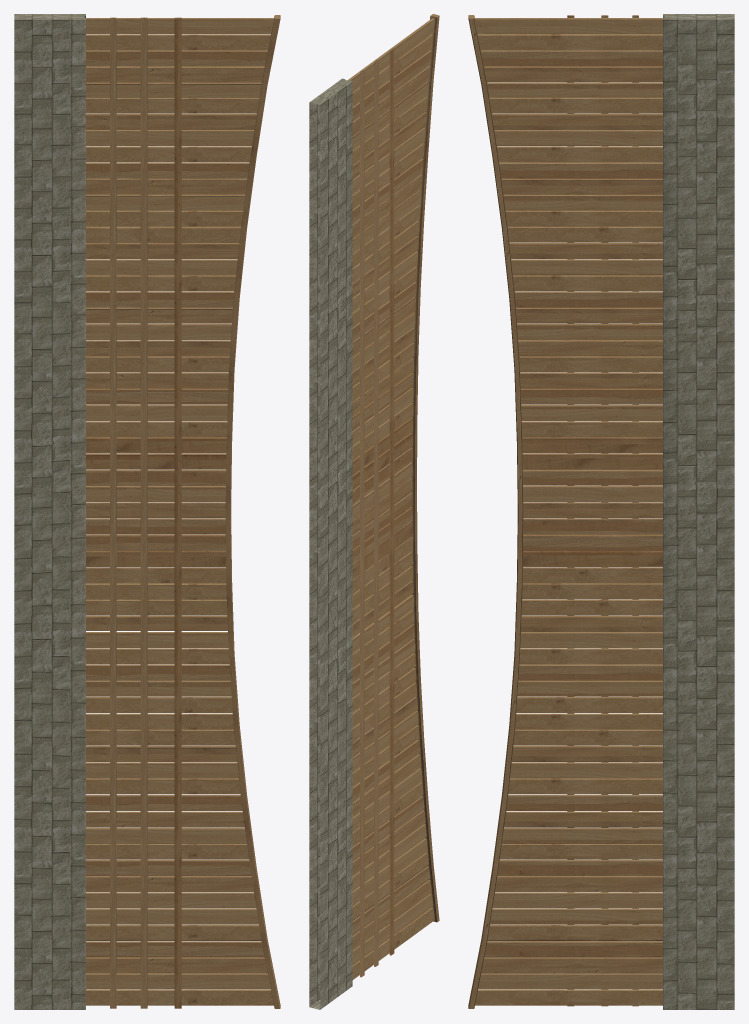
File: nt_concrete_fence_320_tall_LOD0.obj
The picture shows the model from 3 angles, left to right: view 1: azimuth 90°, elevation 25°; view 2: azimuth 150°, elevation 25°; view 3: azimuth 270°, elevation 25°; orthographic projection. The views are drawn at different scales.
Parts seen in each view (by area): view 1: nt_wood_fence, nt_2020_concrete_pattern_02; view 2: nt_wood_fence, nt_2020_concrete_pattern_02; view 3: nt_wood_fence, nt_2020_concrete_pattern_02.
Part boxes in pixels (x1,y1,x2,y2): nt_wood_fence: (86,15,280,1008); nt_2020_concrete_pattern_02: (14,14,85,1009); nt_wood_fence: (347,14,439,979); nt_2020_concrete_pattern_02: (309,78,352,1009); nt_wood_fence: (468,15,662,1008); nt_2020_concrete_pattern_02: (663,14,734,1009).
Bounding box in the file's own units: 10.16 × 813 × 198.
Materials: 2 (2 with a texture image).
